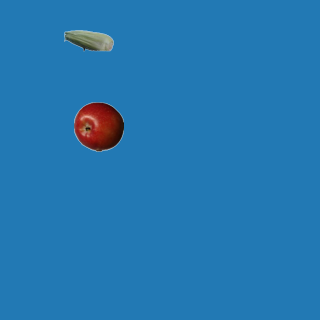Apple Braeburn: (73, 101, 123, 151)
Corn Husk: (63, 15, 113, 65)
